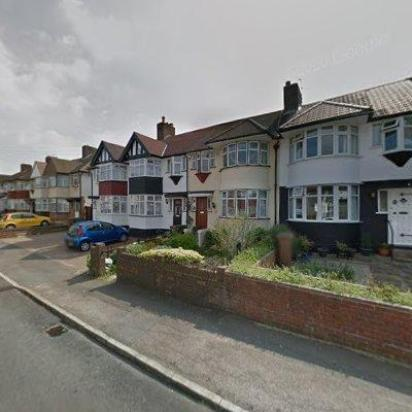stationary-car-offstreet: (64, 220, 130, 252), (0, 210, 54, 234)
